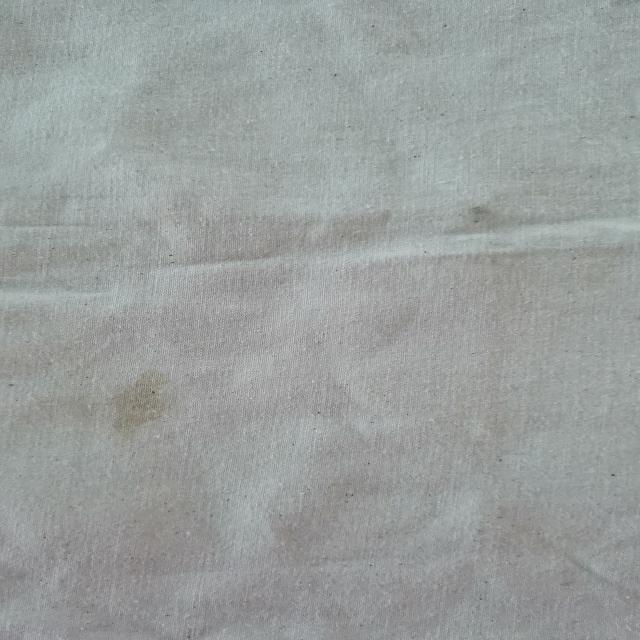taaaches: (92, 379, 195, 446), (454, 192, 526, 246)
